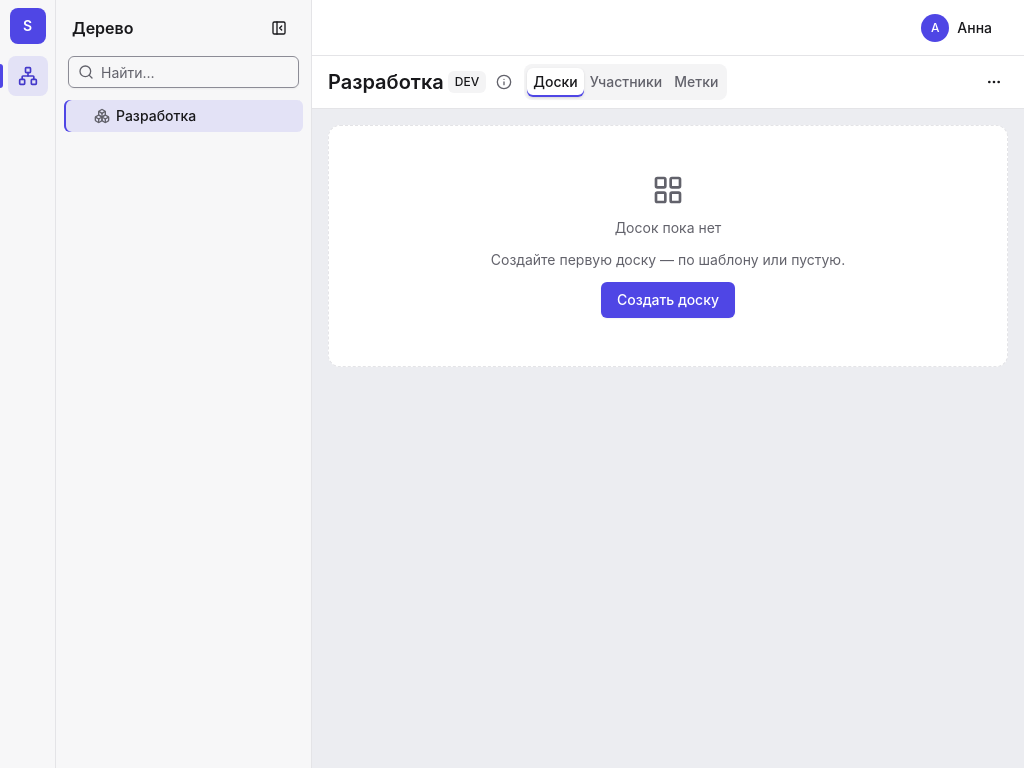
Test: Страница пространства › исключает участника после подтверждения
Step 1. Click the tab "Участники" → (626, 82), box [584,68,668,96]
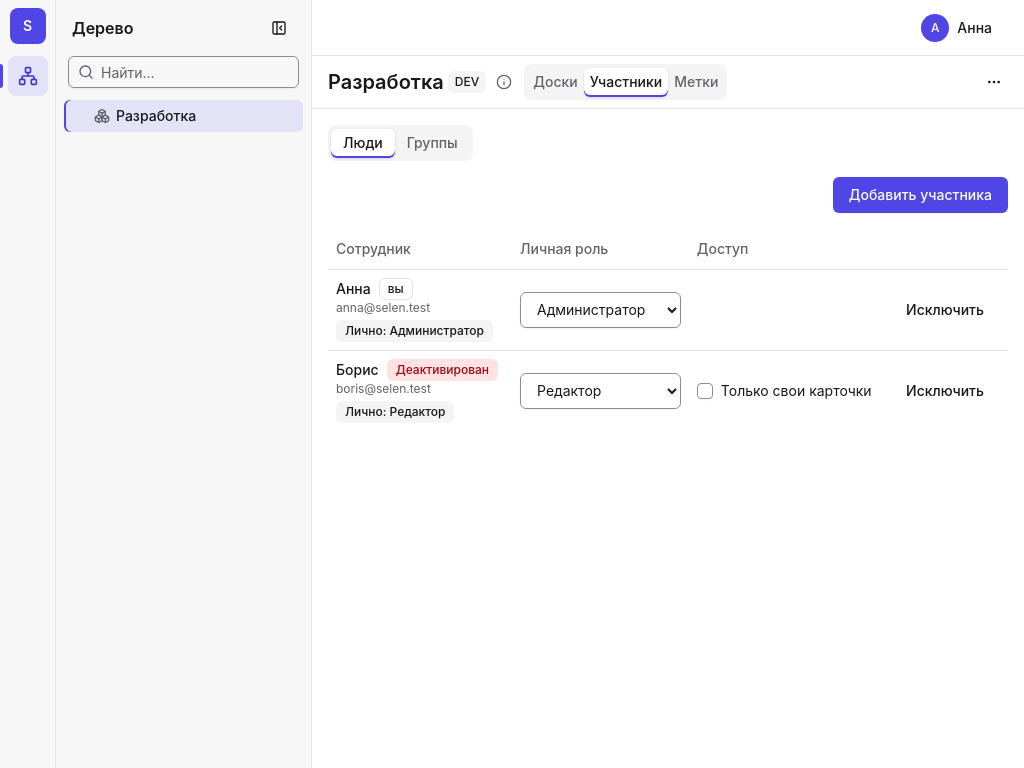
Step 2. Click the button with aria-label "Исключить Борис" → (945, 390), box [894,374,996,406]
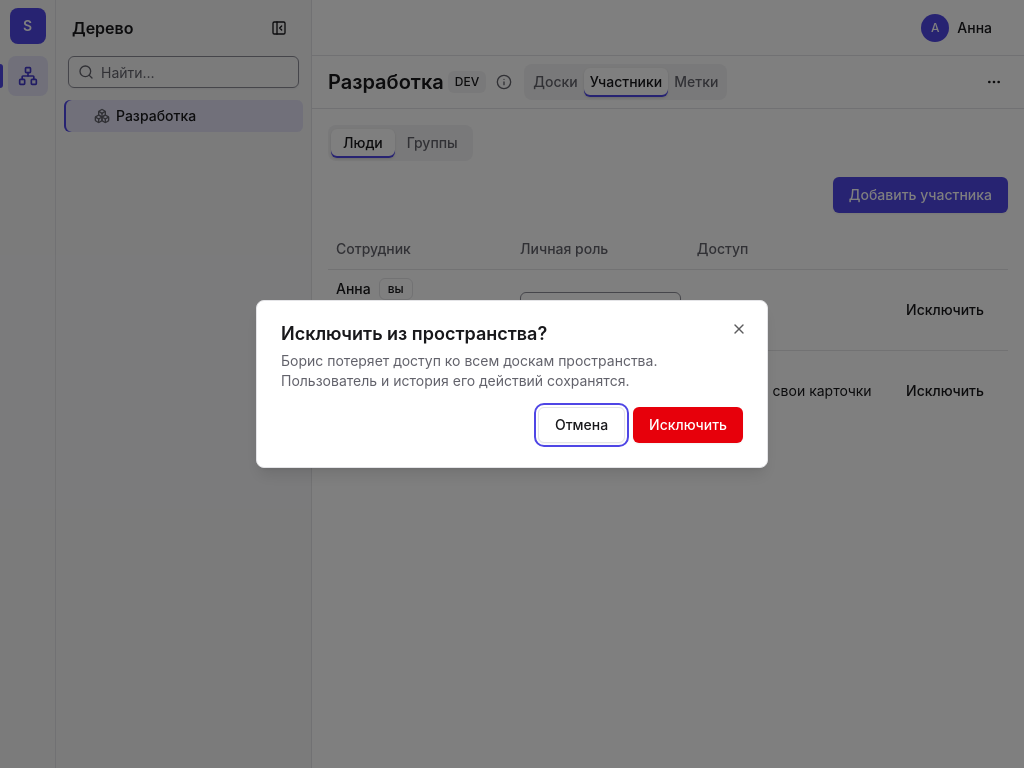
Step 3. Click the button "Исключить" → (688, 425), box [633,407,743,443]
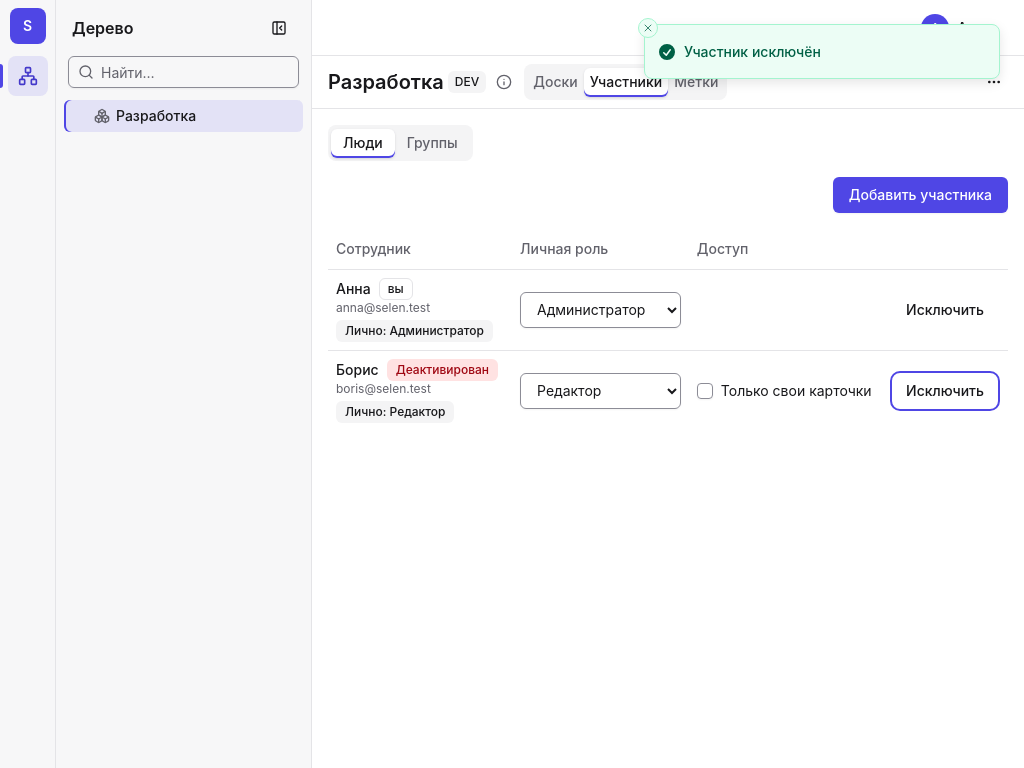
Now the text "Участник исключён" is shown, box [684,41,821,62]
